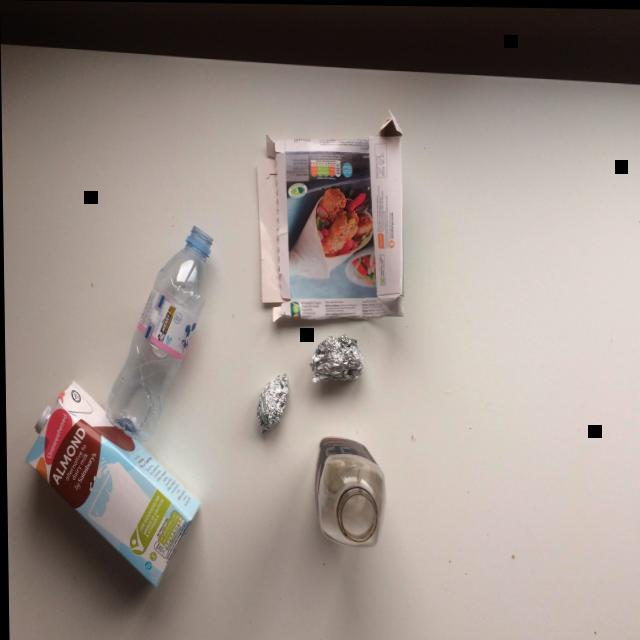Aluminium foil: (309, 334, 362, 381), (255, 372, 288, 433)
Clear plastic bottle: (103, 225, 213, 441), (313, 435, 385, 546)
Drink carton: (24, 380, 199, 589)
Other carton: (257, 108, 403, 321)
